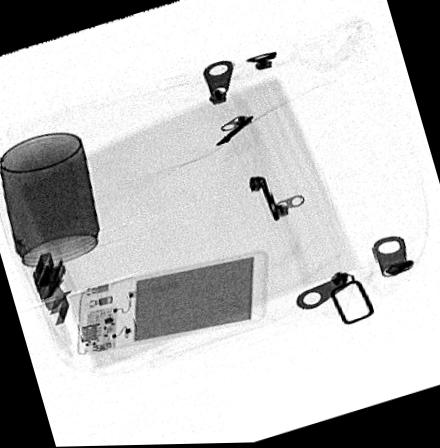Powerbank: (73, 251, 268, 356)
